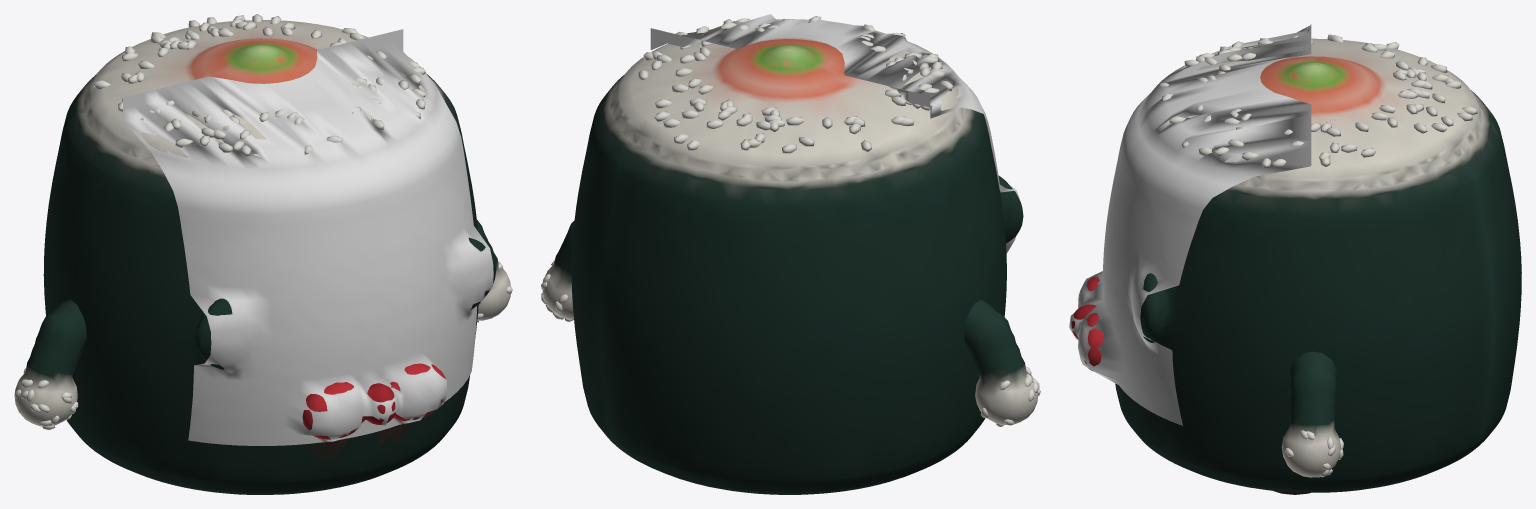
The model's file is folk2_maki_lod1.glb.
3 views of the same model, side by side, from view 1: azimuth 30°, elevation 25°; view 2: azimuth 150°, elevation 25°; view 3: azimuth 270°, elevation 25° (orthographic). The views are drawn at different scales.
Visible parts, largest first — view 1: maki_face, maki_body, maki_arm_l, maki_arm_r; view 2: maki_body, maki_face, maki_arm_l, maki_arm_r; view 3: maki_body, maki_face, maki_arm_r.
Part boxes in pixels (x1,y1,x2,y2): maki_face: [123, 29, 493, 445]; maki_body: [43, 14, 496, 494]; maki_arm_l: [14, 300, 86, 430]; maki_arm_r: [477, 220, 512, 322]; maki_body: [571, 16, 1023, 494]; maki_face: [650, 14, 1019, 253]; maki_arm_l: [964, 299, 1040, 426]; maki_arm_r: [541, 220, 574, 321]; maki_body: [1071, 34, 1521, 492]; maki_face: [1069, 24, 1311, 425]; maki_arm_r: [1281, 351, 1343, 477].
Size of the model in its own units: 1.2 by 0.9491 by 0.9996.
